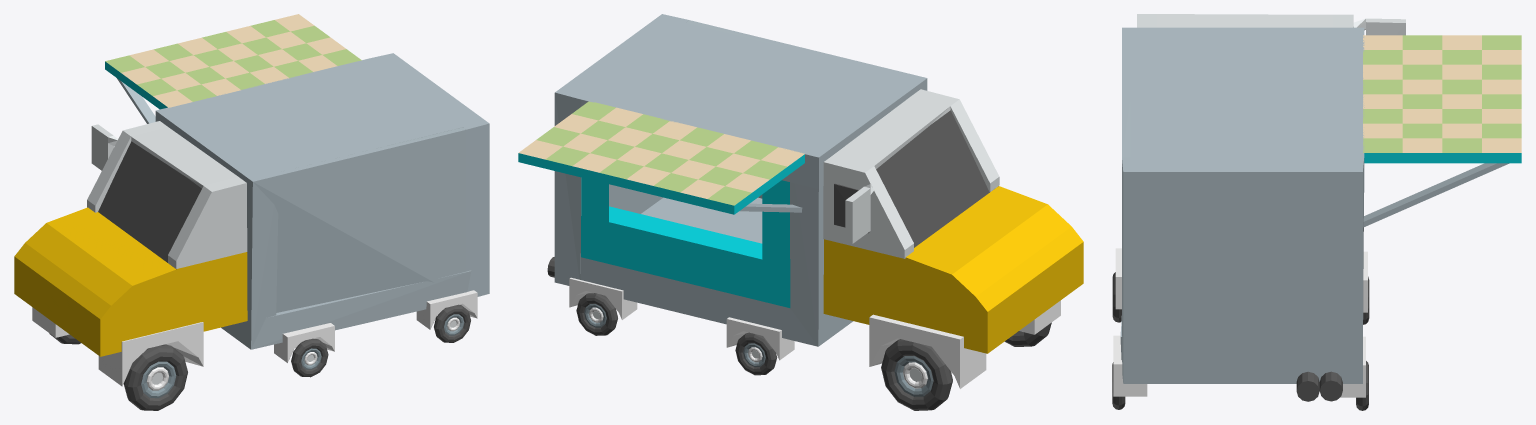
The model's file is foodtruck.glb.
3 renders of one model, left to right at view 1: azimuth 30°, elevation 25°; view 2: azimuth 150°, elevation 25°; view 3: azimuth 270°, elevation 25°, orthographic. The views are drawn at different scales.
Parts seen in each view (by area): view 1: group934729322, group572770700, group1086031423, group1891252473, group1709927739, group1434556701, group959526367, group944767584, group965558297, group567284715, group1825844925, group368228645 (+7 smaller); view 2: group934729322, group1086031423, group1891252473, group346295656, group959526367, group1709927739, group1434556701, group368228645, group1808298422, group567284715, group2088504716, group551125605 (+11 smaller); view 3: group1434556701, group1086031423, group1891252473, group567284715, group239368340, group572770700, group436816632, group884443619, group1709927739, group2146076598, group24178565, group938269490 (+1 smaller).
Part boxes in pixels (left/top/right/bottom): group934729322: left=14, top=141, right=247, bottom=356; group572770700: left=253, top=127, right=465, bottom=312; group1086031423: left=155, top=58, right=462, bottom=207; group1891252473: left=105, top=14, right=361, bottom=109; group1709927739: left=156, top=110, right=278, bottom=349; group1434556701: left=369, top=53, right=489, bottom=296; group959526367: left=251, top=270, right=471, bottom=349; group944767584: left=168, top=177, right=247, bottom=268; group965558297: left=123, top=345, right=187, bottom=410; group567284715: left=131, top=127, right=237, bottom=188; group1825844925: left=98, top=322, right=203, bottom=386; group368228645: left=87, top=121, right=167, bottom=212; group934729322: left=823, top=110, right=1083, bottom=353; group1086031423: left=581, top=23, right=923, bottom=188; group1891252473: left=518, top=101, right=804, bottom=214; group346295656: left=581, top=206, right=790, bottom=307; group959526367: left=580, top=197, right=817, bottom=346; group1709927739: left=790, top=71, right=927, bottom=346; group1434556701: left=554, top=14, right=689, bottom=285; group368228645: left=823, top=155, right=913, bottom=258; group1808298422: left=881, top=339, right=952, bottom=410; group567284715: left=833, top=96, right=950, bottom=168; group2088504716: left=869, top=314, right=986, bottom=388; group551125605: left=762, top=180, right=790, bottom=307; group1434556701: left=1122, top=157, right=1364, bottom=383; group1086031423: left=1130, top=27, right=1364, bottom=192; group1891252473: left=1363, top=35, right=1521, bottom=163; group567284715: left=1157, top=14, right=1332, bottom=27; group239368340: left=1363, top=163, right=1509, bottom=226; group572770700: left=1122, top=43, right=1130, bottom=157; group436816632: left=1113, top=335, right=1147, bottom=396; group884443619: left=1366, top=18, right=1405, bottom=35; group1709927739: left=1122, top=27, right=1363, bottom=43; group2146076598: left=1296, top=371, right=1319, bottom=401; group24178565: left=1319, top=371, right=1342, bottom=401; group938269490: left=1340, top=336, right=1365, bottom=397.
Size of the model in its own units: 7.43 by 3.79 by 5.3.
